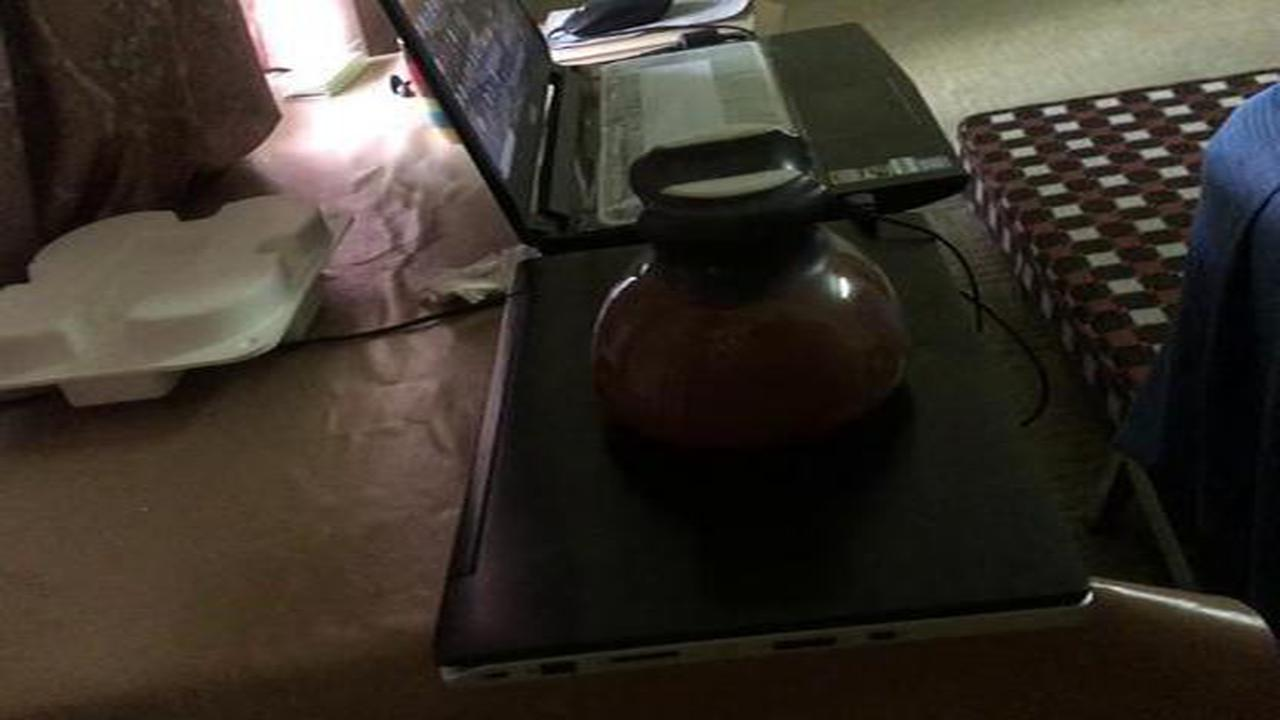insulator_pin: (573, 118, 927, 464)
